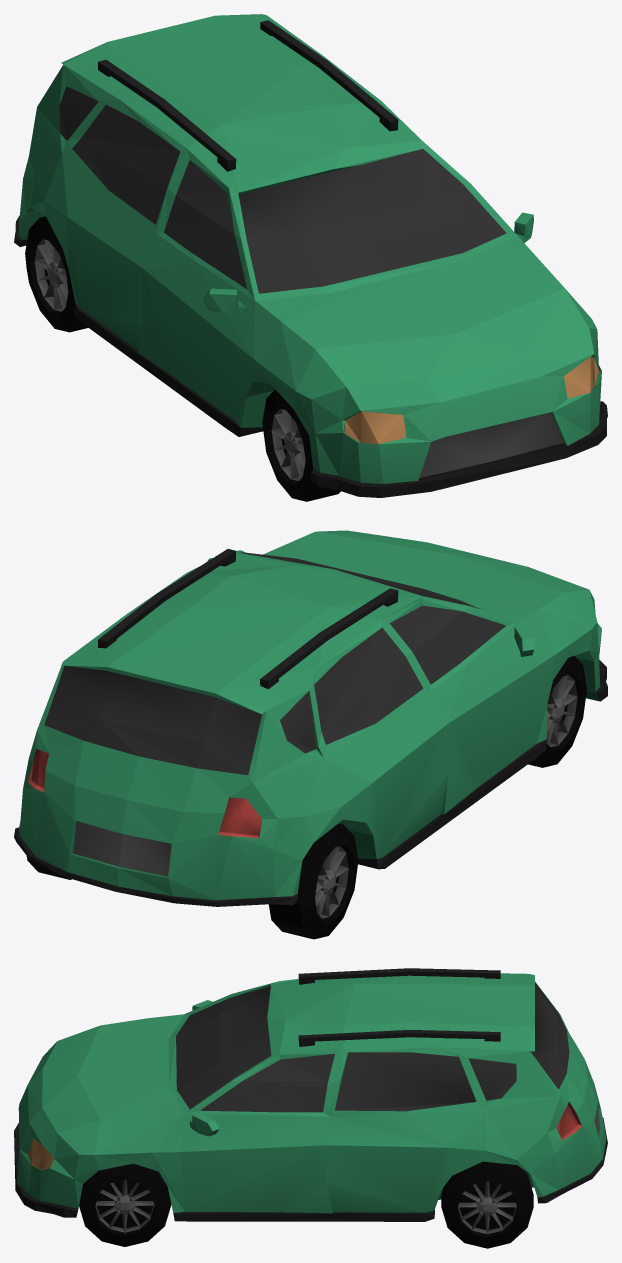
The model's file is car-suv.glb.
3 views of the same model, one above another, from view 1: azimuth 30°, elevation 25°; view 2: azimuth 150°, elevation 25°; view 3: azimuth 270°, elevation 25° (orthographic). The views are drawn at different scales.
Parts seen in each view (by area): view 1: car-suv; view 2: car-suv; view 3: car-suv.
Boxes of the visible parts, x1,y1,x2,y2 form: car-suv: (14, 14, 607, 501); car-suv: (14, 530, 607, 939); car-suv: (14, 968, 607, 1248).
Size of the model in its own units: 2.42 by 1.75 by 4.82.
